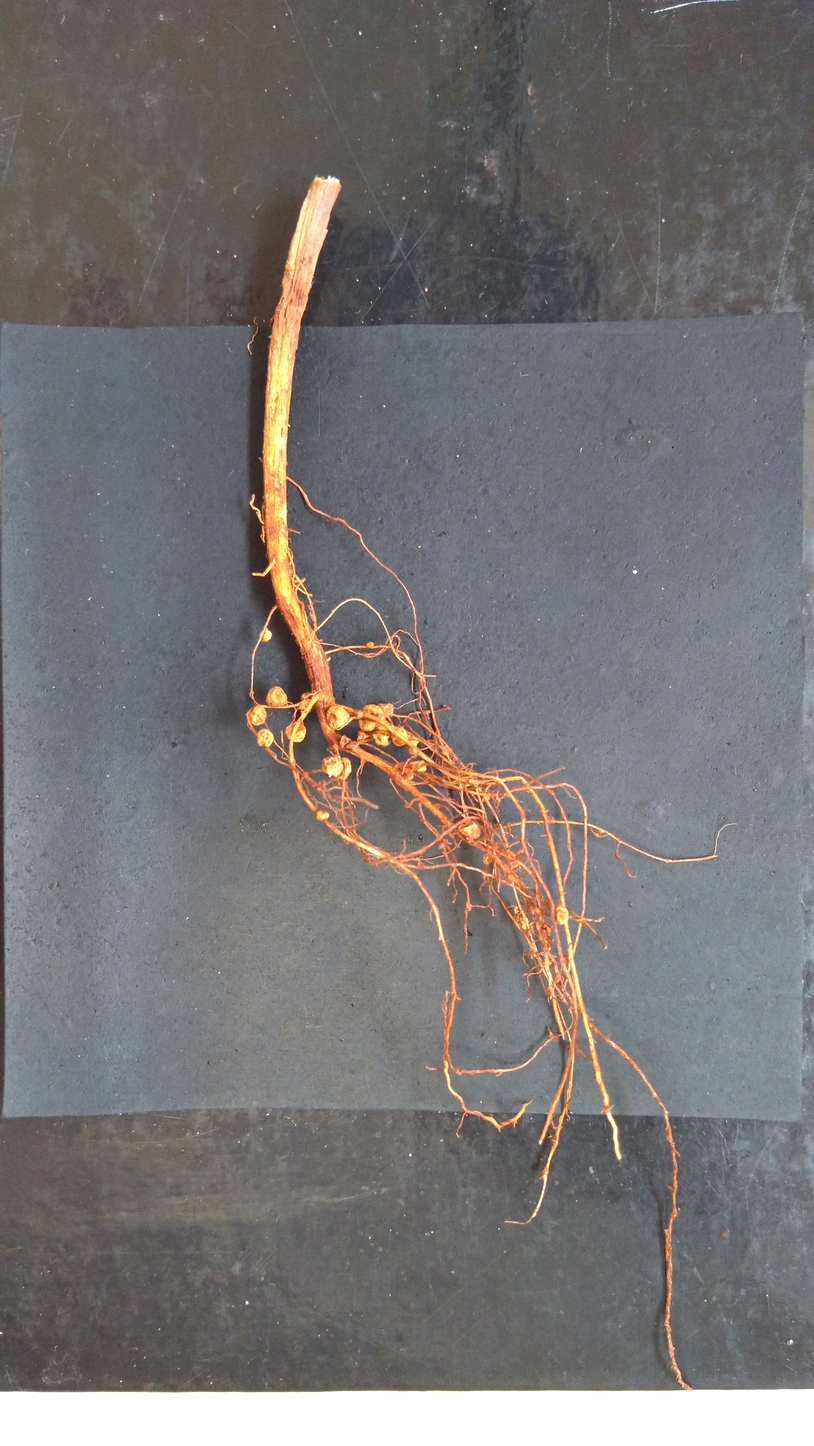nodule: (356, 702, 387, 732), (323, 704, 352, 731), (455, 819, 484, 845), (282, 720, 308, 745), (263, 684, 290, 708), (319, 754, 345, 778), (247, 704, 269, 727), (336, 755, 354, 783), (389, 725, 409, 750), (512, 904, 530, 931), (255, 729, 277, 749), (394, 764, 415, 784), (372, 731, 393, 749), (554, 904, 570, 927), (408, 757, 429, 773), (257, 627, 273, 645), (378, 700, 394, 718), (406, 733, 422, 748), (354, 729, 370, 743), (297, 691, 316, 702), (315, 809, 331, 822), (482, 851, 493, 867), (365, 641, 376, 648)
